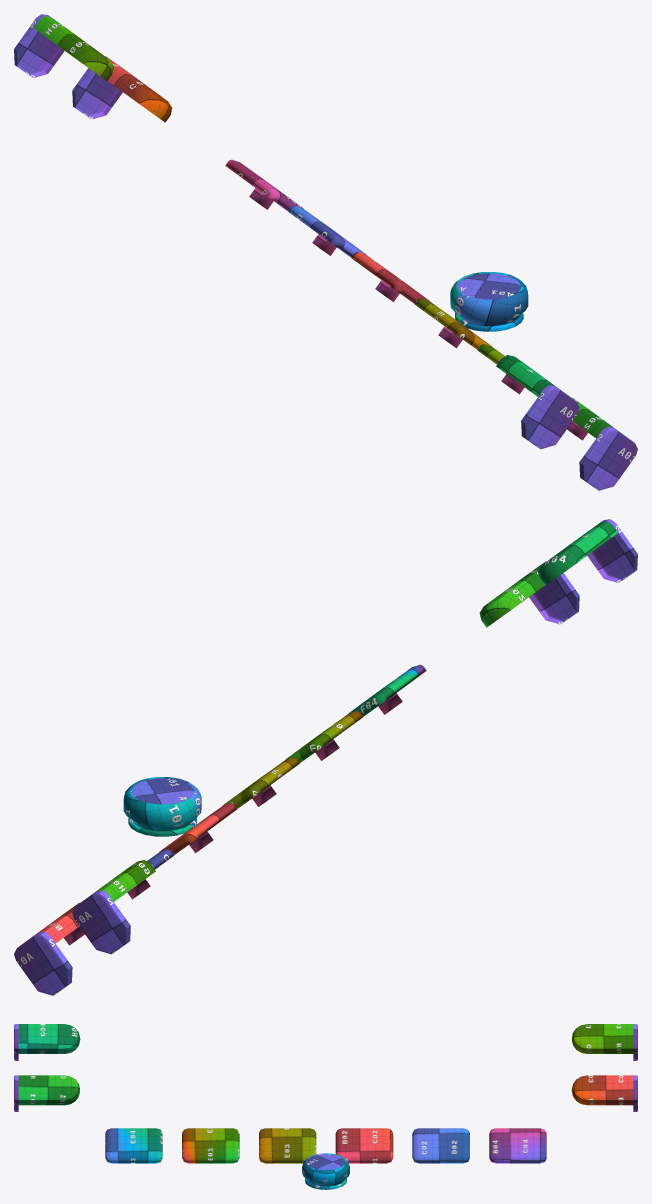
The model's file is Interactibles3_low.fbx.
3 renders of one model, top to bottom at view 1: azimuth 30°, elevation 25°; view 2: azimuth 150°, elevation 25°; view 3: azimuth 270°, elevation 25°, orthographic. The views are drawn at different scales.
Visible parts, largest first — view 1: PowerButton_low, num14_low, num84_low, num5_low, numnull_low, Slider06_low, Slider03_low, Slider04_low, Slider05_low; view 2: PowerButton_low, num84_low, num14_low, numnull_low, num5_low, Slider01_low, Slider04_low, Slider03_low, Slider02_low; view 3: Slider01_low, Slider02_low, Slider05_low, Slider06_low, Slider04_low, numnull_low, num5_low, Slider03_low, num14_low, num84_low, PowerButton_low.
Part boxes in pixels (<box>): PowerButton_low: <box>450,272,528,325</box>; num14_low: <box>496,355,579,449</box>; num84_low: <box>14,14,113,80</box>; num5_low: <box>572,398,637,490</box>; numnull_low: <box>72,56,172,122</box>; Slider06_low: <box>225,159,303,211</box>; Slider03_low: <box>414,298,492,349</box>; Slider04_low: <box>351,252,429,303</box>; Slider05_low: <box>288,205,366,257</box>; PowerButton_low: <box>123,777,201,830</box>; num84_low: <box>72,860,155,954</box>; num14_low: <box>538,519,637,585</box>; numnull_low: <box>14,903,79,995</box>; num5_low: <box>479,561,579,627</box>; Slider01_low: <box>348,664,426,716</box>; Slider04_low: <box>159,803,237,854</box>; Slider03_low: <box>222,757,300,808</box>; Slider02_low: <box>285,710,363,762</box>; Slider01_low: <box>105,1128,162,1163</box>; Slider02_low: <box>182,1128,239,1163</box>; Slider05_low: <box>412,1128,469,1163</box>; Slider06_low: <box>489,1128,546,1163</box>; Slider04_low: <box>335,1128,393,1163</box>; numnull_low: <box>571,1075,637,1111</box>; num5_low: <box>14,1075,79,1111</box>; Slider03_low: <box>259,1128,316,1163</box>; num14_low: <box>14,1024,80,1060</box>; num84_low: <box>572,1024,637,1060</box>; PowerButton_low: <box>302,1153,349,1186</box>.
Bounding box in the file's own units: 79.37 × 48.74 × 277.
